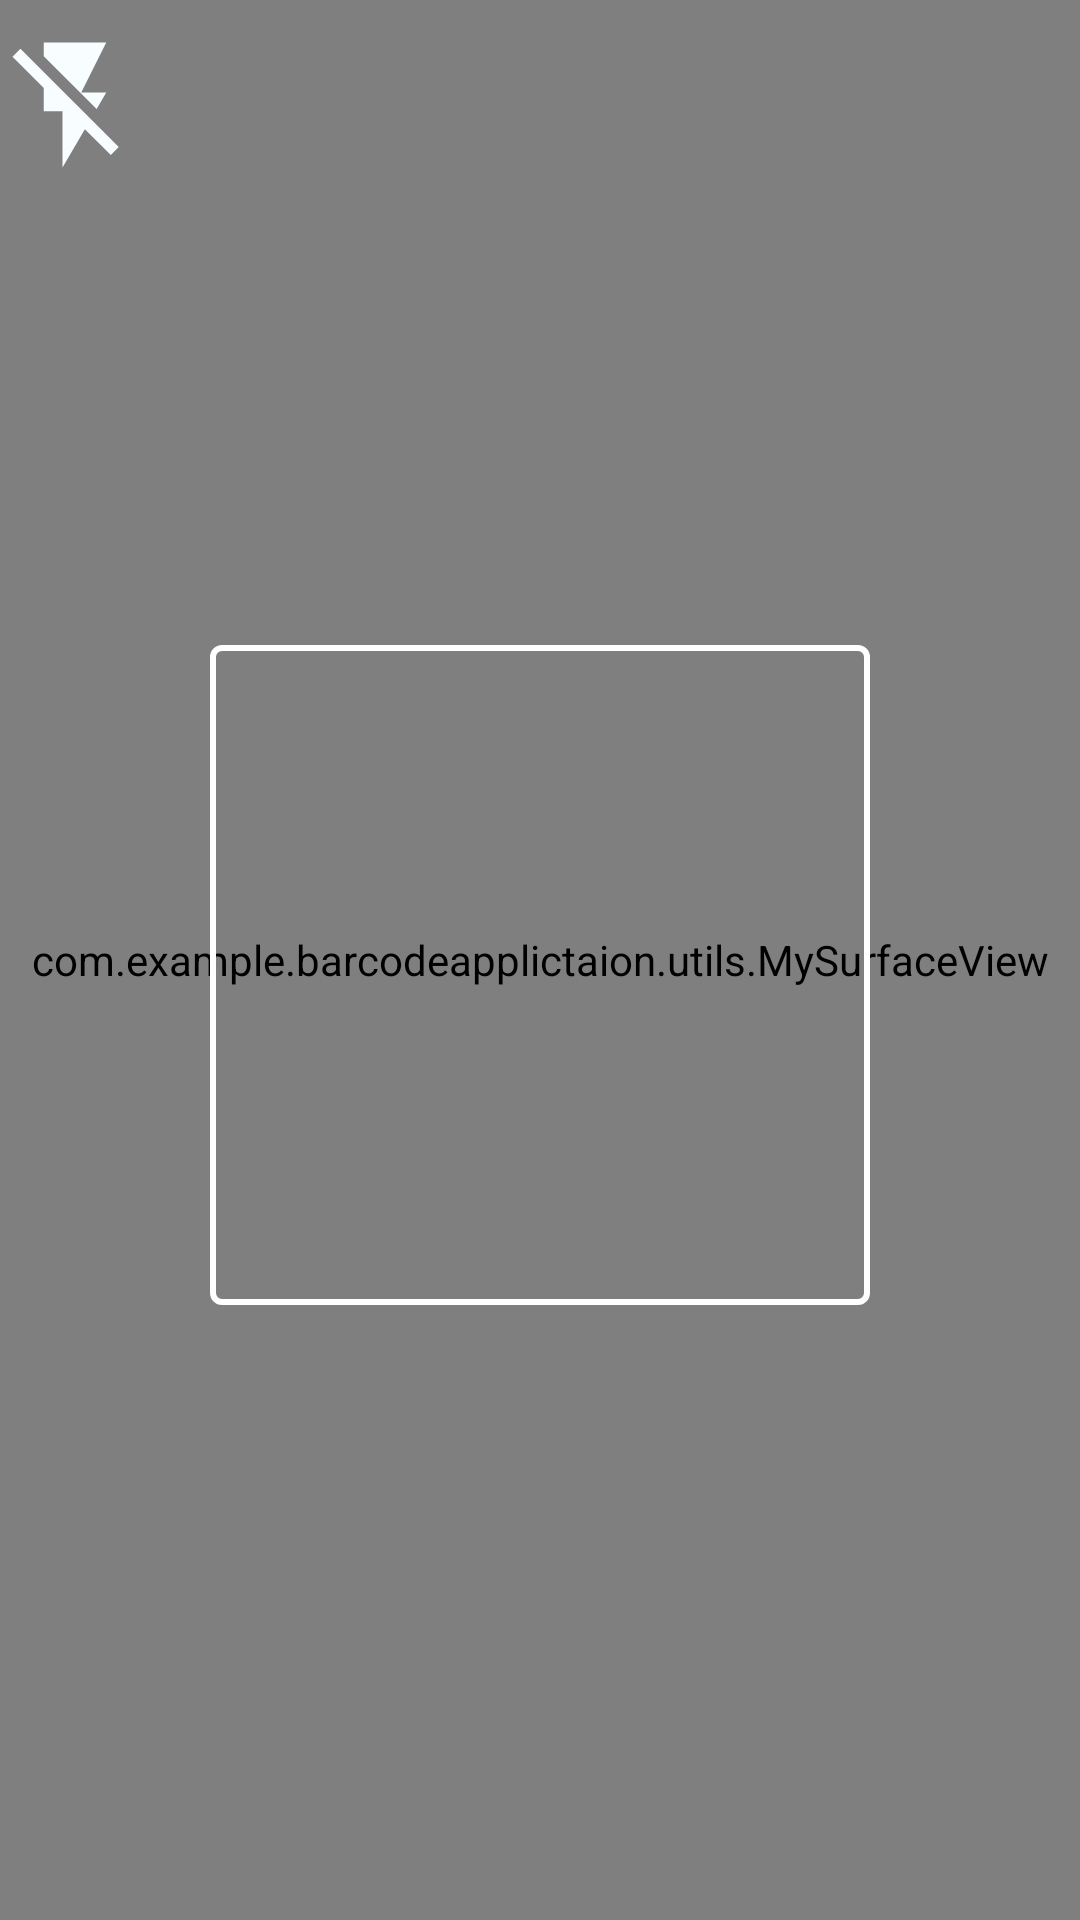

Point at icon controls on the screen. Image size 1080px×1920px, points as point (x, y).
flash off: point (65, 104)
